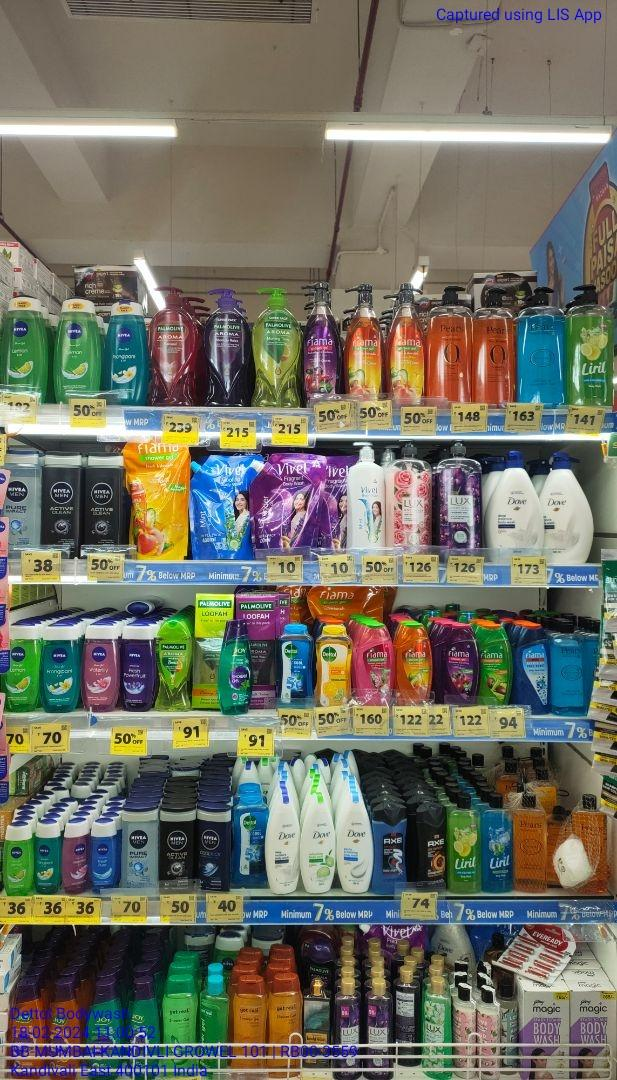Dettol_Bodywash_Cool: (234, 786, 267, 888), (274, 622, 313, 707)
Dettol_Bodywash_Refresh: (317, 619, 351, 711)
Dove_Deep_Moisture_Body_Wash_250ML: (270, 792, 299, 897)
Dove_Gentle_Exfoliating_Body_Wash_250ML: (337, 793, 372, 893)
Dove_Refreshing_Body_Wash_250ML: (301, 790, 337, 895)
Fiama_Shower_Gel_Lemongrass_and_Jojoba_250ML: (477, 621, 508, 707)
Fiama_Shower_Gel_Patchouli_and_Macadamia_250ML: (358, 621, 393, 705)
Fiama_Shower_Gel_Peach_and_Avocado_250ML: (396, 621, 433, 707)
Get_Real_Shower_Gel_Moisturising_Glycerin_300ML: (267, 970, 301, 1080), (230, 978, 265, 1071)
Joy_Shower_Gel_Mint_and_Eucalyptus_250ML: (220, 618, 251, 716)
Liril_Cooling_Mint_Body_Wash_250ML: (484, 792, 511, 891)
Liril_Lime_and_Tea_Tree_Oil_Body_Wash_250ML: (448, 797, 481, 893)
Lux_Black_Orchid_Scent_and_Juniper_Oil_Body_Wash_245ML: (329, 980, 364, 1080), (365, 978, 392, 1080)
Lux_Body_Wash_Skin_Detox_Freesia_Scent_and_Alove_Vera_245ML: (422, 977, 452, 1080)
Nivea_Shower_Gel_Frangipani_and_Oil_250ML: (106, 300, 149, 404), (40, 624, 78, 712)
Nivea_Shower_Gel_Fresh_Powerfruit_250ML: (120, 624, 157, 708)
Nivea_Shower_Gel_Lemon_and_Oil_250ML: (0, 293, 45, 400), (54, 300, 99, 399), (4, 624, 38, 714)
Nivea_Shower_Gel_Waterlily_and_Oil_250ML: (82, 624, 118, 710)
Palmolive_Aroma_Morning_Tonic_Shower_Gel_250ML: (159, 620, 190, 712)
Pears_Pure_Glycerin_and_Mint_Extracts_Body_Wash_250ML: (549, 622, 584, 718)
